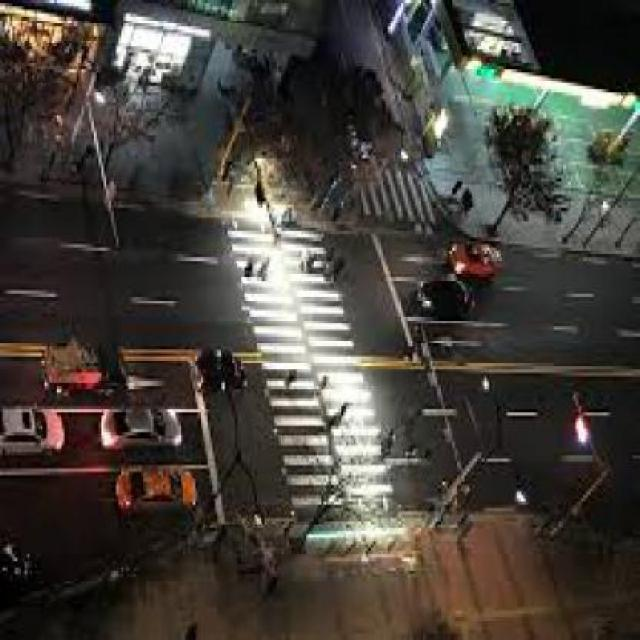crosswalk: (219, 208, 419, 565), (337, 162, 445, 225)
